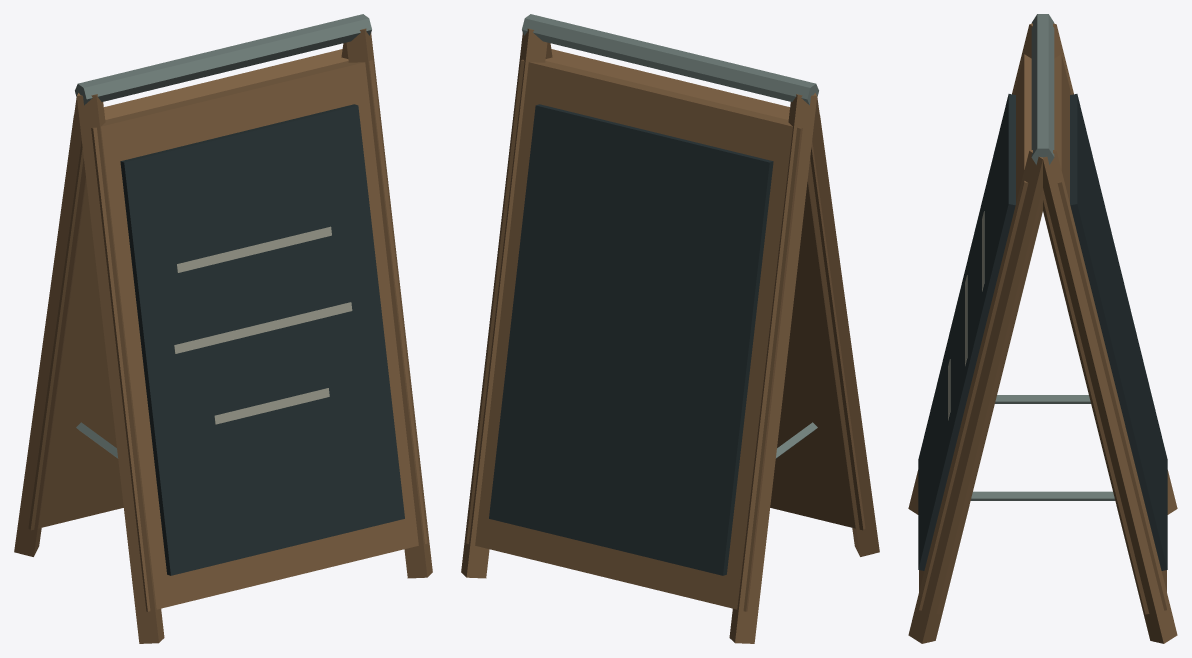
The picture shows the model from 3 angles, left to right: view 1: azimuth 30°, elevation 25°; view 2: azimuth 150°, elevation 25°; view 3: azimuth 270°, elevation 25°; orthographic projection. The views are drawn at different scales.
Parts seen in each view (by area): view 1: a39; view 2: a39; view 3: a39.
Boxes of the visible parts, box(x1,y1,x2,y2) form: a39: box(14, 14, 432, 643); a39: box(461, 14, 879, 643); a39: box(908, 14, 1177, 643).
Bounding box in the file's own units: 0.514 × 0.8604 × 0.4229.
